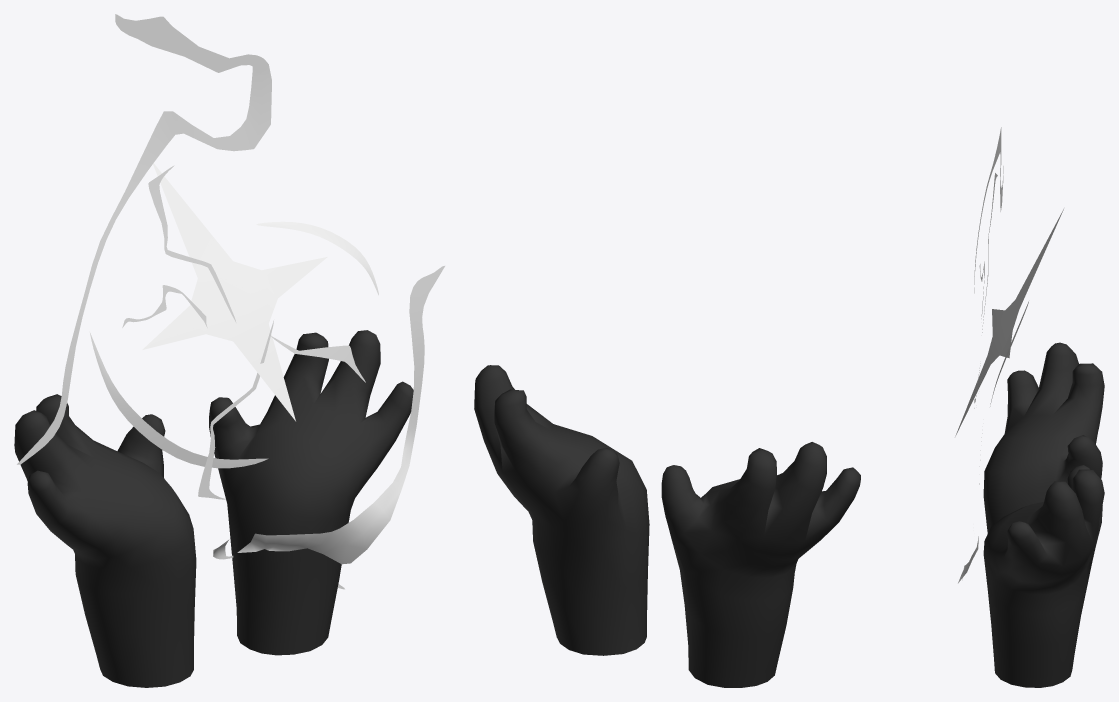
Rendered from hand.glb.
The picture shows the model from 3 angles, left to right: view 1: azimuth 30°, elevation 25°; view 2: azimuth 150°, elevation 25°; view 3: azimuth 270°, elevation 25°; orthographic projection. The views are drawn at different scales.
Visible parts, largest first — view 1: Lightning Hands; view 2: Lightning Hands; view 3: Lightning Hands.
Boxes of the visible parts, x1,y1,x2,y2 form: Lightning Hands: (14,14,444,687); Lightning Hands: (474,365,860,687); Lightning Hands: (955,127,1104,687).
Size of the model in its own units: 2.32 by 3.47 by 0.8161.
2 materials, 2 textured.
